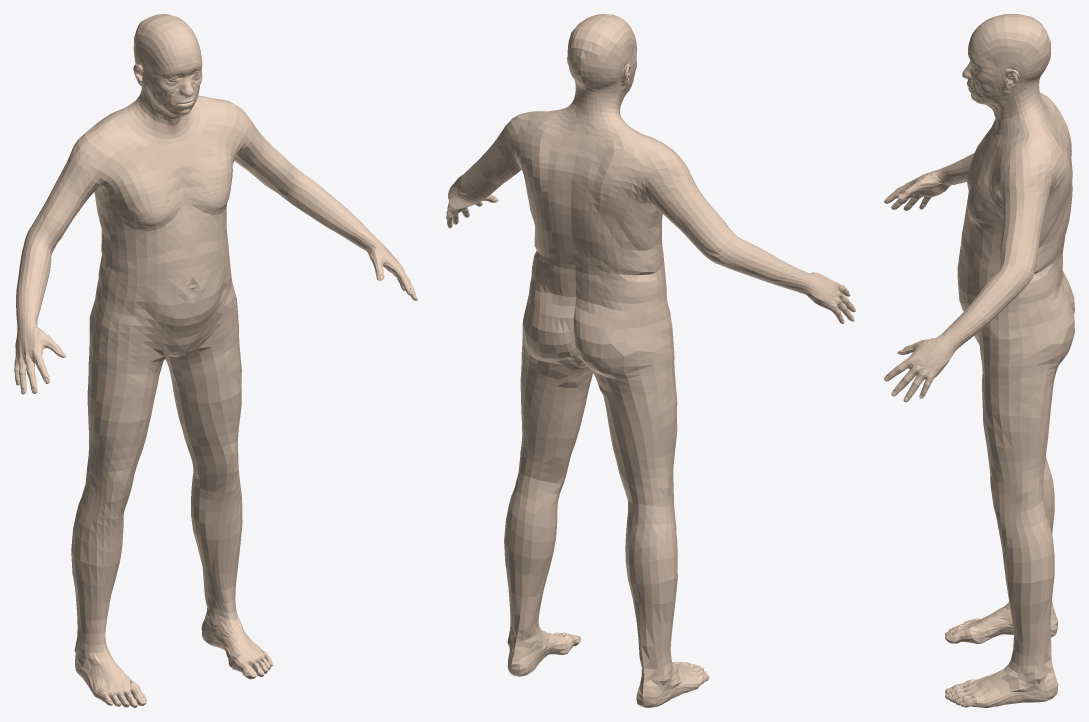
File: male-older-heavy-toned.glb
3 renders of one model, left to right at view 1: azimuth 30°, elevation 25°; view 2: azimuth 150°, elevation 25°; view 3: azimuth 270°, elevation 25°, orthographic.
Parts seen in each view (by area): view 1: world; view 2: world; view 3: world.
Boxes of the visible parts, x1,y1,x2,y2 form: world: (14,14,417,707); world: (446,14,855,707); world: (884,14,1074,707).
Size of the model in its own units: 1.22 by 1.93 by 0.5118.
